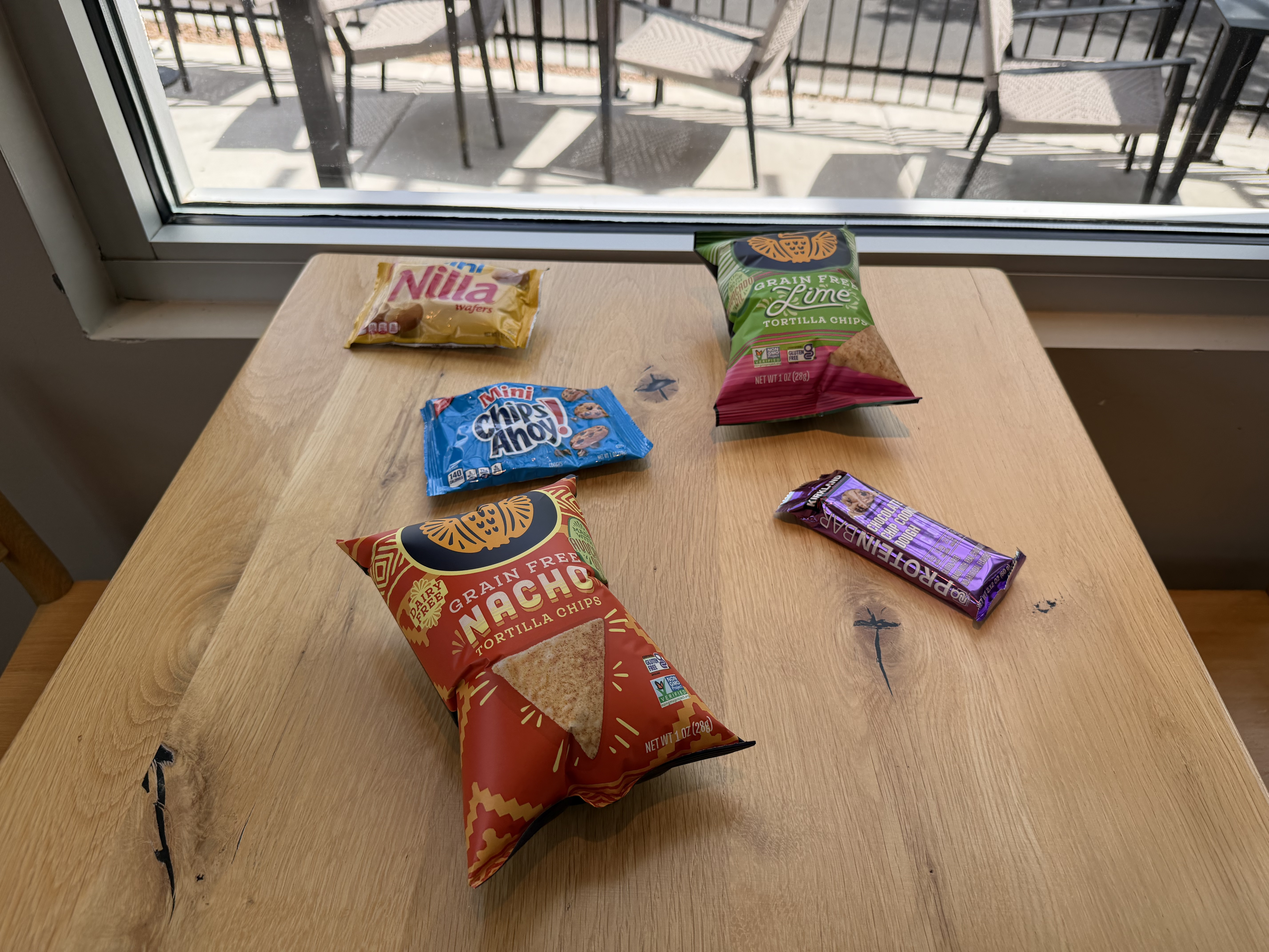chips_ahoy: (395, 375, 663, 486)
chocolate_chip_cookie_dough: (772, 459, 1047, 631)
lime: (669, 203, 946, 440)
nacho: (328, 485, 753, 877)
nilla: (345, 243, 575, 362)
